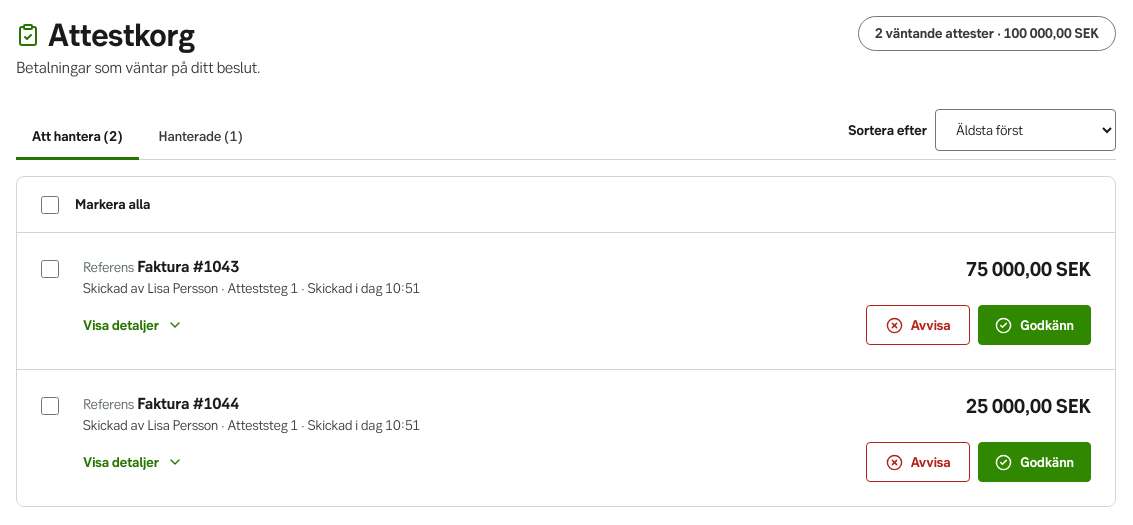
Scenario: Approving several payments at once › selects all payments and shows how many and how much
Click the checkbox labelled "Markera alla".
click(50, 205)  # box 41,196 -> 59,214
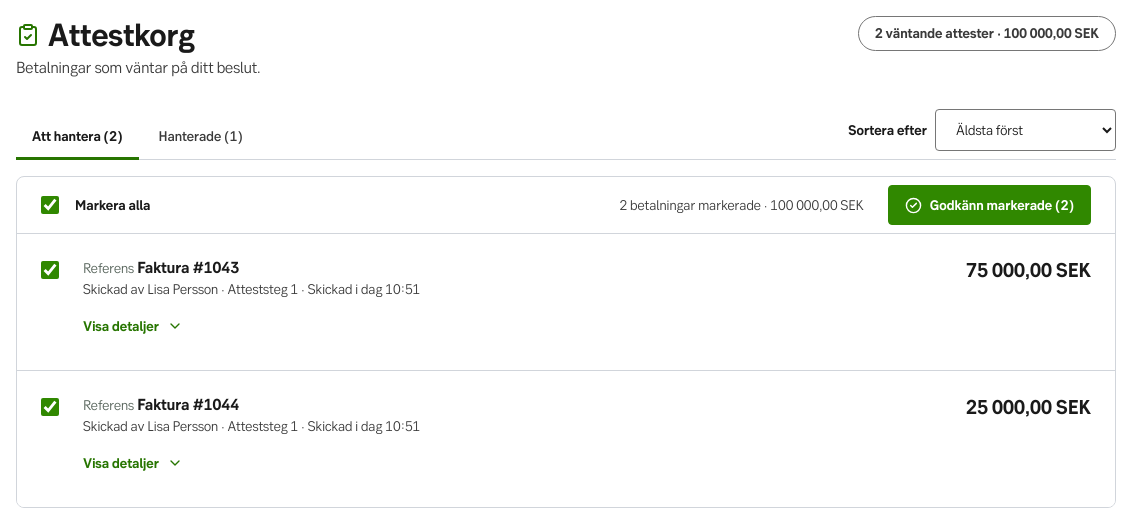
Expected: the checkbox named "Markera Faktura #1043" is checked, 41,261 -> 59,279
Expected: the checkbox named "Markera Faktura #1044" is checked, 41,398 -> 59,416
Expected: the text "2 betalningar markerade · 100 000,00 SEK" is shown, 620,197 -> 864,214
